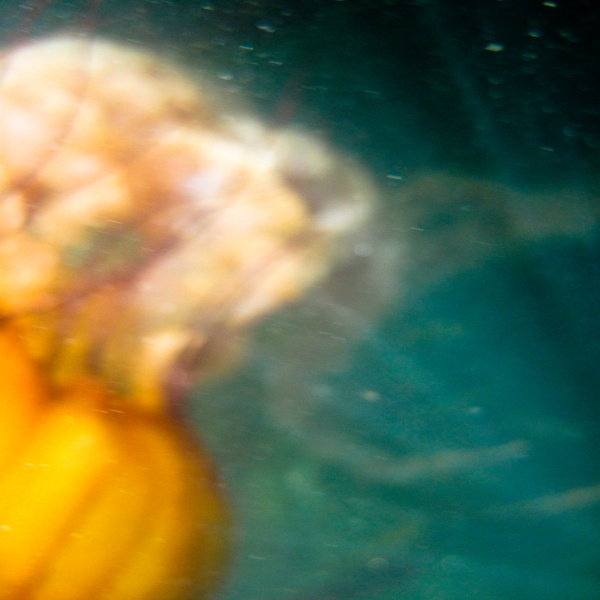Jellyfish: (0, 2, 425, 571)
